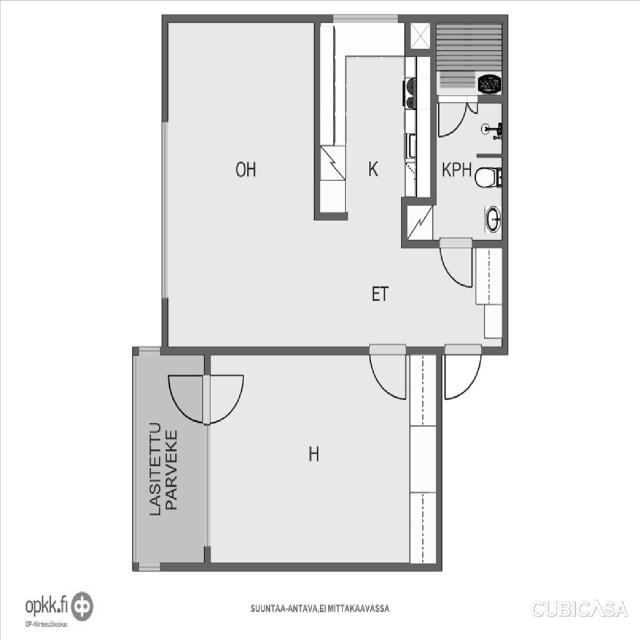door: (161, 362, 248, 428), (366, 338, 413, 406), (439, 340, 485, 402), (437, 96, 479, 148), (438, 234, 474, 292)
window: (156, 119, 174, 305), (322, 4, 404, 31), (201, 424, 212, 547), (134, 554, 166, 580)
zone: (206, 349, 440, 566), (166, 20, 321, 346), (319, 26, 430, 244), (436, 100, 498, 243), (432, 23, 501, 97)
